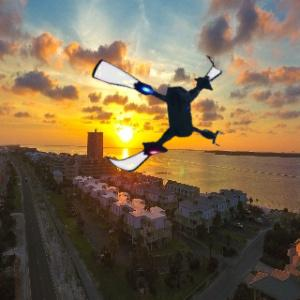drone: (82, 39, 232, 189)
